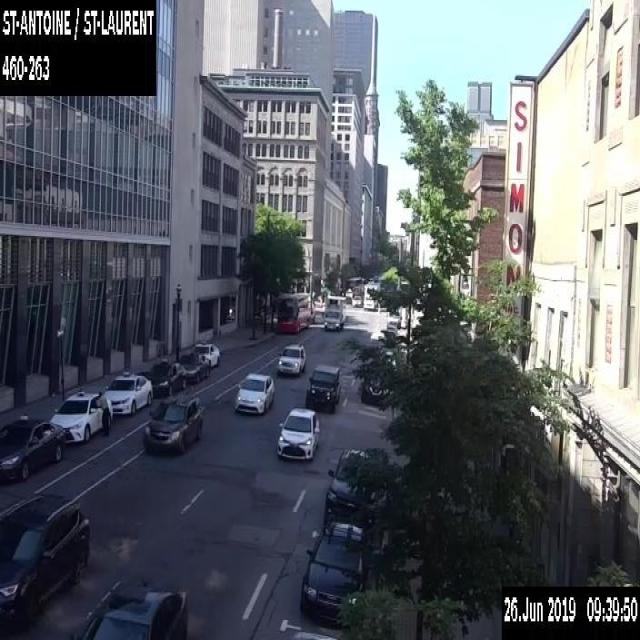bus: (276, 292, 310, 332), (344, 276, 362, 297)
pedestrian: (96, 389, 109, 439)
vehicle: (0, 490, 90, 634), (73, 574, 190, 638), (300, 520, 371, 624), (323, 445, 388, 537), (0, 413, 65, 479), (143, 393, 204, 453), (49, 388, 112, 442), (276, 406, 319, 458), (104, 370, 152, 414), (233, 371, 276, 416), (305, 363, 340, 412), (147, 357, 187, 395), (276, 340, 306, 375), (179, 350, 210, 383), (189, 338, 220, 367), (360, 376, 389, 406), (323, 294, 346, 328), (291, 629, 336, 639), (363, 283, 378, 308), (382, 350, 396, 371), (386, 312, 401, 327), (311, 306, 324, 322), (351, 294, 362, 306), (386, 324, 396, 336)
